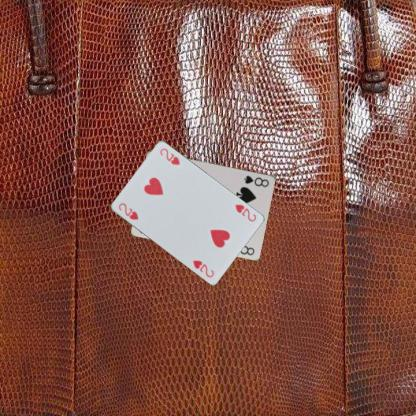2h: (232, 201, 257, 223), (116, 200, 139, 221)
8s: (242, 173, 271, 188)
